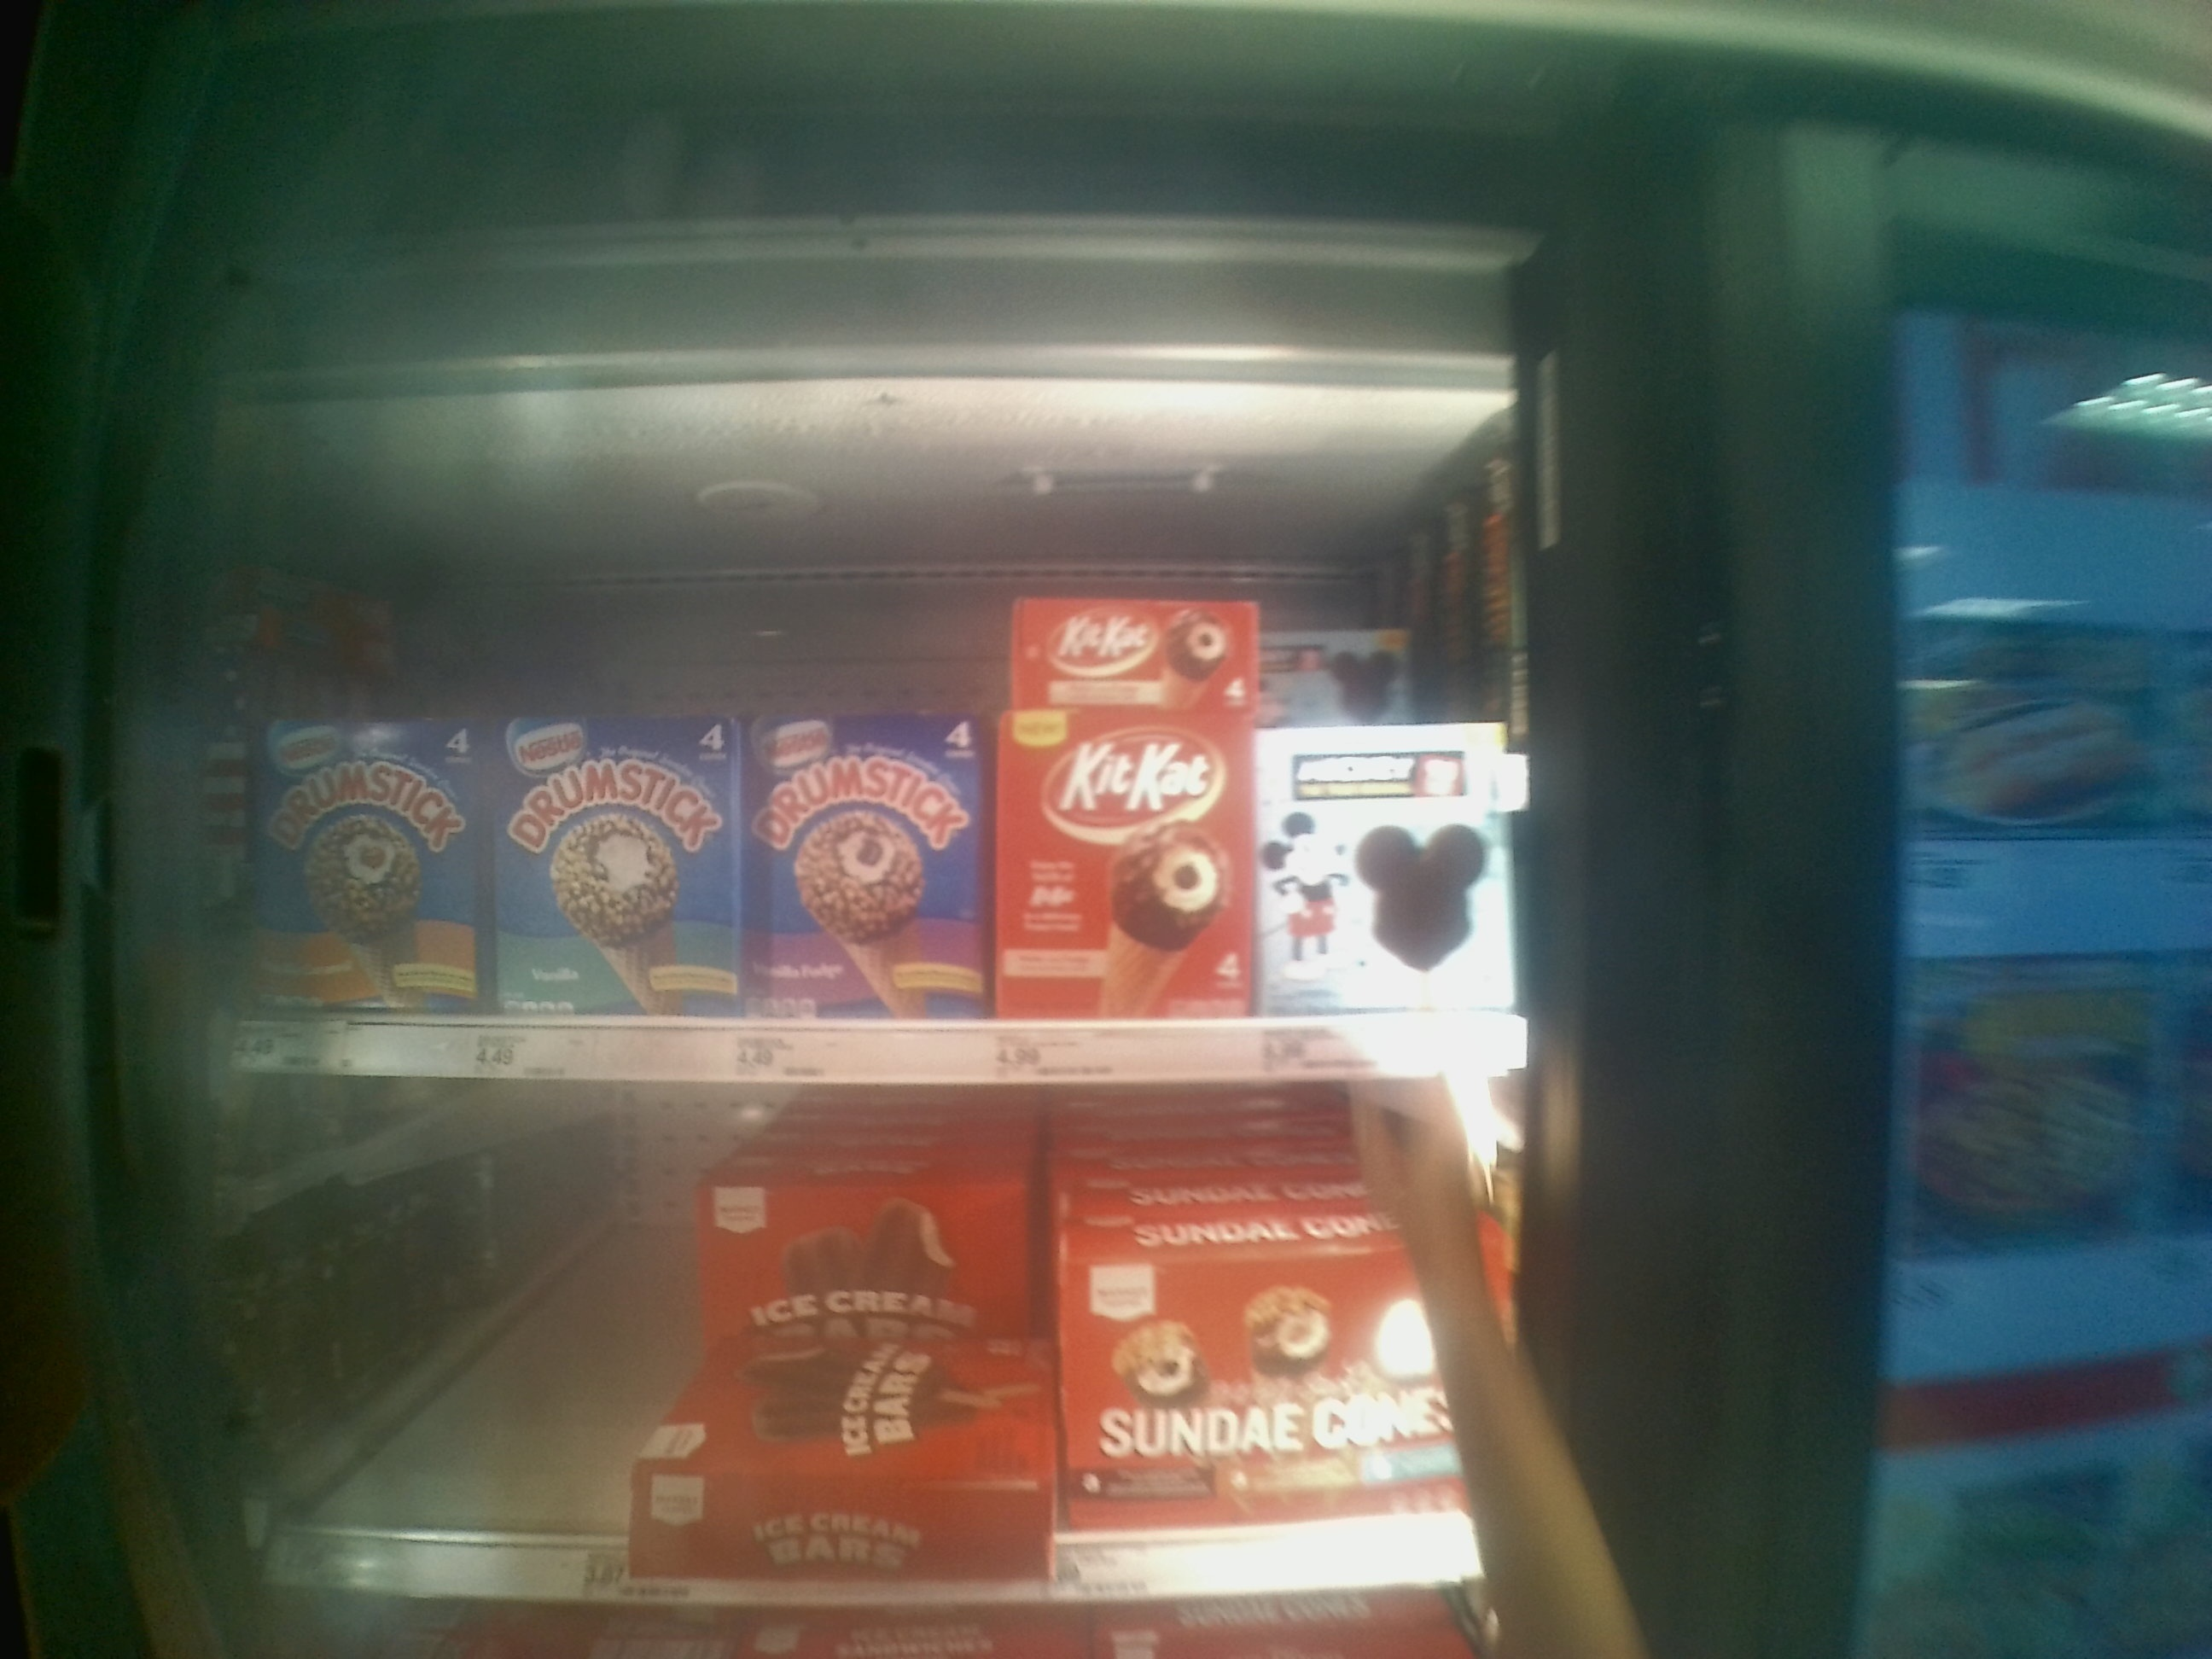shelf: (124, 396, 1533, 1093), (127, 1098, 1555, 1600)
